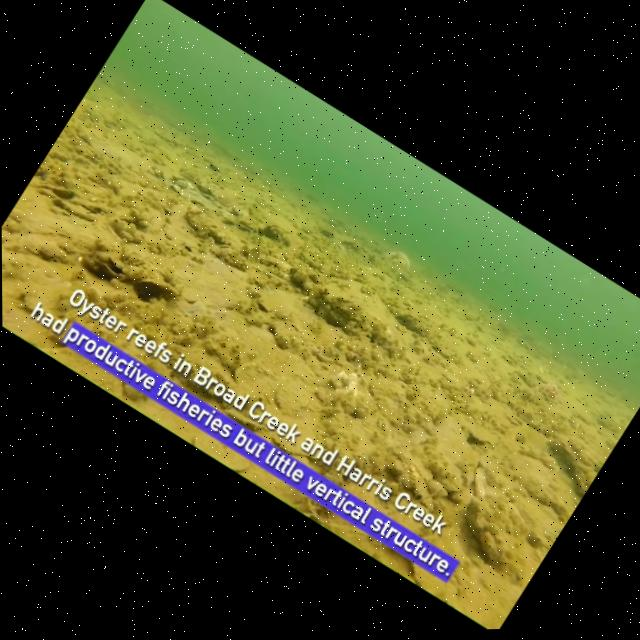Oyster-Indeterminate: (185, 422, 257, 480), (197, 319, 255, 377), (177, 198, 238, 253), (265, 370, 321, 426), (130, 265, 188, 316), (318, 286, 372, 339), (452, 490, 505, 542), (261, 426, 319, 471), (127, 191, 181, 239), (461, 449, 514, 495), (396, 467, 446, 514), (50, 192, 101, 233), (459, 420, 506, 462), (222, 401, 271, 440), (434, 461, 477, 502), (315, 453, 357, 493), (378, 240, 418, 277), (323, 402, 362, 439), (327, 439, 365, 473), (186, 173, 225, 205), (495, 492, 532, 525), (258, 217, 294, 250), (463, 466, 496, 500), (403, 452, 436, 482), (268, 326, 299, 355), (347, 394, 376, 423), (331, 386, 361, 414), (422, 475, 452, 501), (231, 212, 259, 239), (248, 292, 276, 318), (240, 242, 266, 269), (198, 151, 226, 176), (384, 453, 410, 479), (52, 179, 79, 204), (245, 307, 272, 332), (288, 264, 311, 290), (316, 220, 341, 243), (393, 466, 415, 489), (317, 398, 339, 420), (316, 338, 337, 360), (339, 234, 358, 252), (238, 239, 254, 256), (313, 342, 327, 356)
Oyster-Open: (95, 250, 133, 284), (563, 412, 589, 437), (214, 239, 237, 261), (412, 340, 429, 356), (610, 431, 620, 441)
